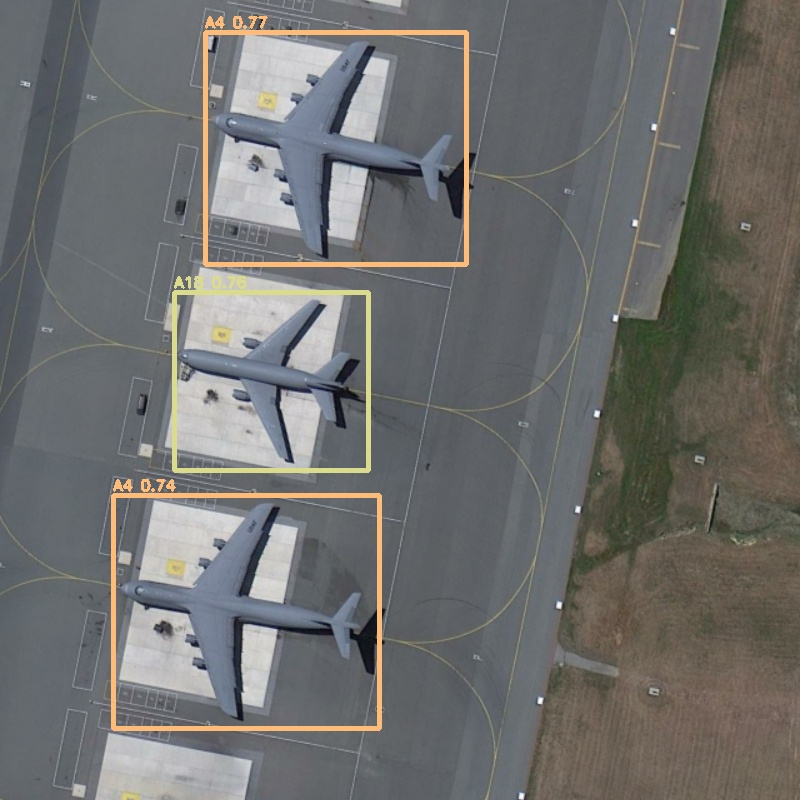A18: (174, 292, 368, 470)
A4: (113, 495, 379, 728), (205, 32, 466, 264)
